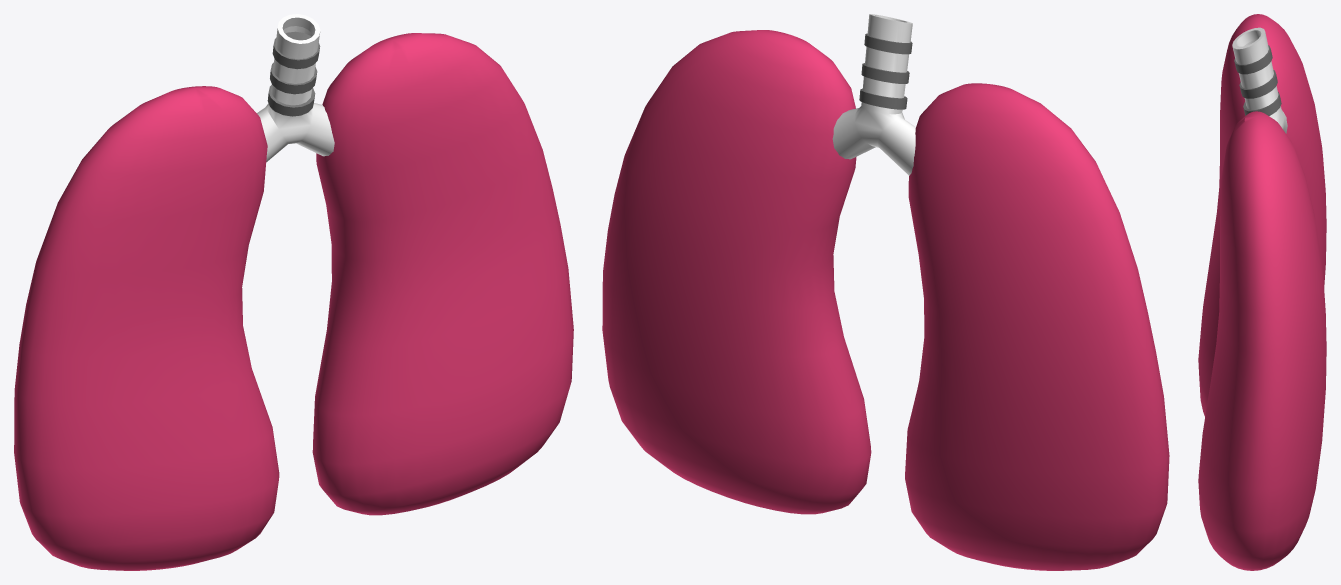
The model's file is lungs.gltf.
The picture shows the model from 3 angles, left to right: view 1: azimuth 30°, elevation 25°; view 2: azimuth 150°, elevation 25°; view 3: azimuth 270°, elevation 25°; orthographic projection. The views are drawn at different scales.
Parts seen in each view (by area): view 1: Sphere.025; view 2: Sphere.025; view 3: Sphere.025.
Part boxes in pixels (<box>): Sphere.025: <box>14,14,573,570</box>; Sphere.025: <box>602,14,1169,570</box>; Sphere.025: <box>1198,14,1326,570</box>.
Bounding box in the file's own units: 2.32 × 2.05 × 0.5189.
1 material, 1 textured.
